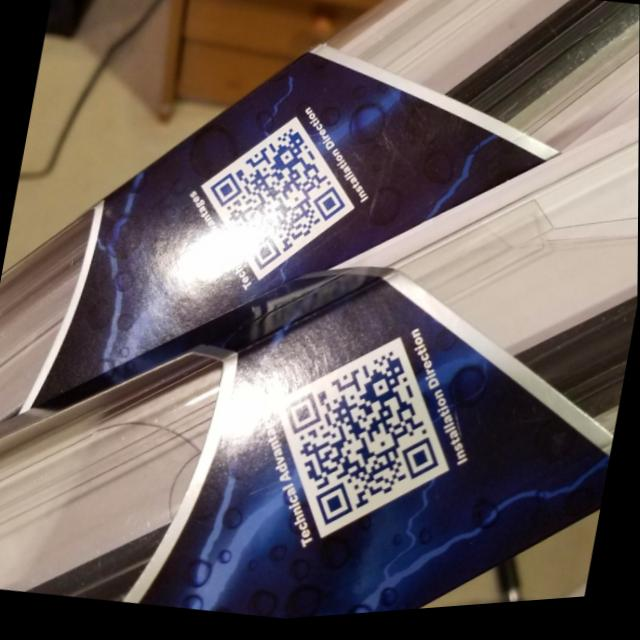QR_CODE: (245, 308, 478, 562), (190, 96, 370, 305)
